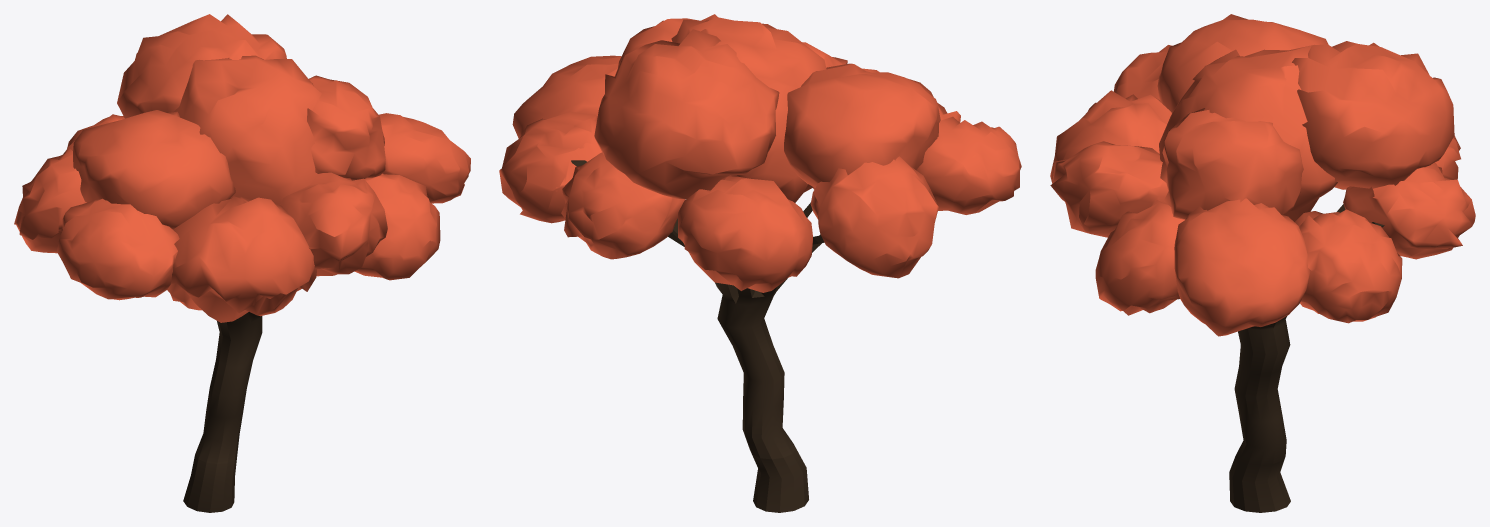
File: tree.fbx
3 renders of one model, left to right at view 1: azimuth 30°, elevation 25°; view 2: azimuth 150°, elevation 25°; view 3: azimuth 270°, elevation 25°, orthographic. The views are drawn at different scales.
Parts seen in each view (by area): view 1: pPlatonic13; view 2: pPlatonic13; view 3: pPlatonic13.
Boxes of the visible parts, x1=… form: pPlatonic13: x1=14, y1=14, x2=470, y2=512; pPlatonic13: x1=499, y1=14, x2=1021, y2=512; pPlatonic13: x1=1050, y1=14, x2=1475, y2=512.
Size of the model in its own units: 6.52 by 6.37 by 5.17.
